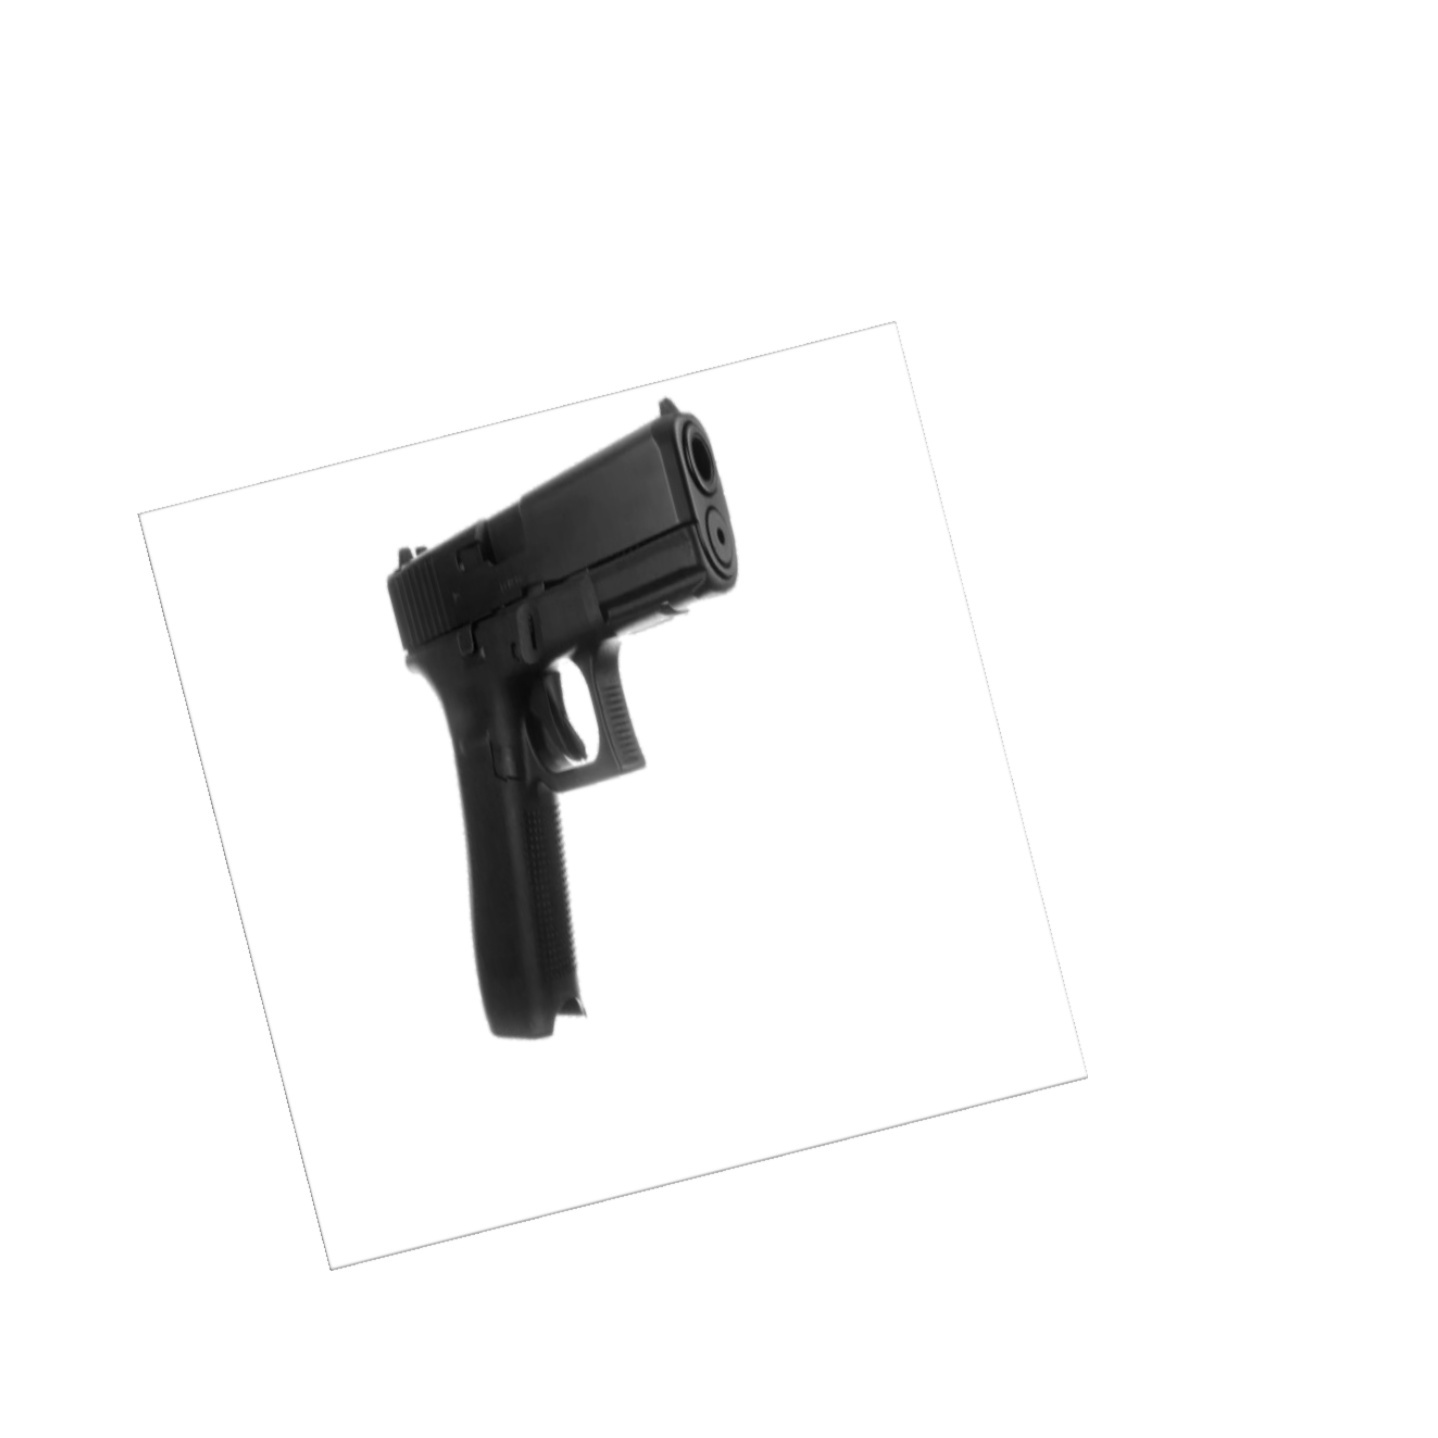gun: (387, 399, 743, 1042)
